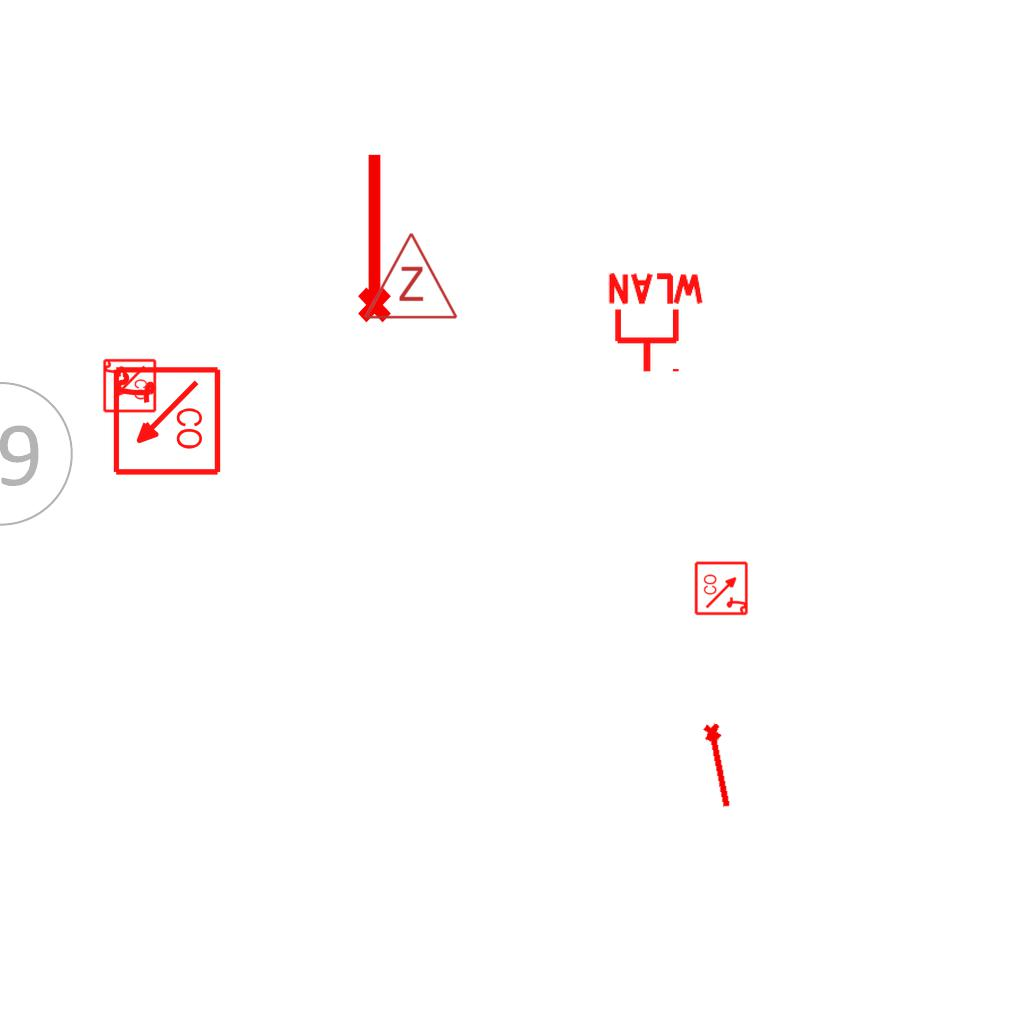ASR_Ansaugoeffnung: (349, 149, 395, 325), (700, 720, 740, 811)
ROA_Rauchmelder_optisch_mit_Signalgeber_(Sockelsirene): (109, 365, 222, 478), (101, 358, 157, 414), (694, 560, 750, 616)
WLAN: (604, 271, 708, 376)
Zimmersignalleuchte: (361, 226, 459, 326)
